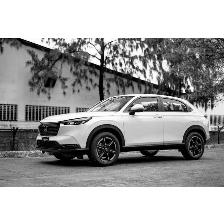NON-EV: (38, 95, 213, 166)
